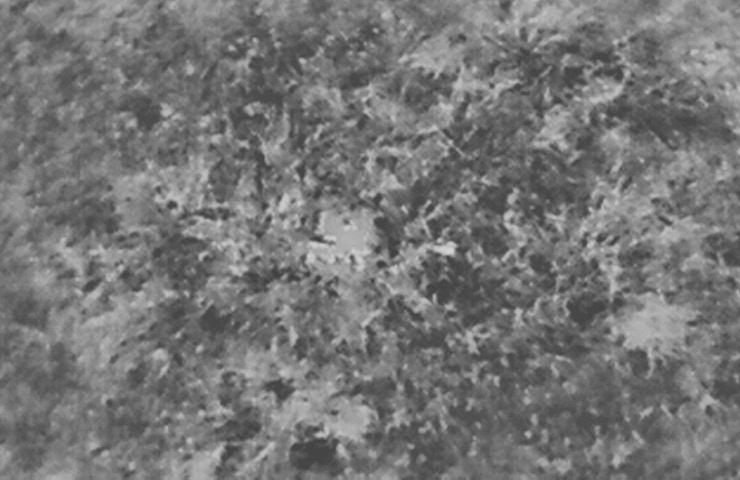landmines: (313, 205, 383, 261)
